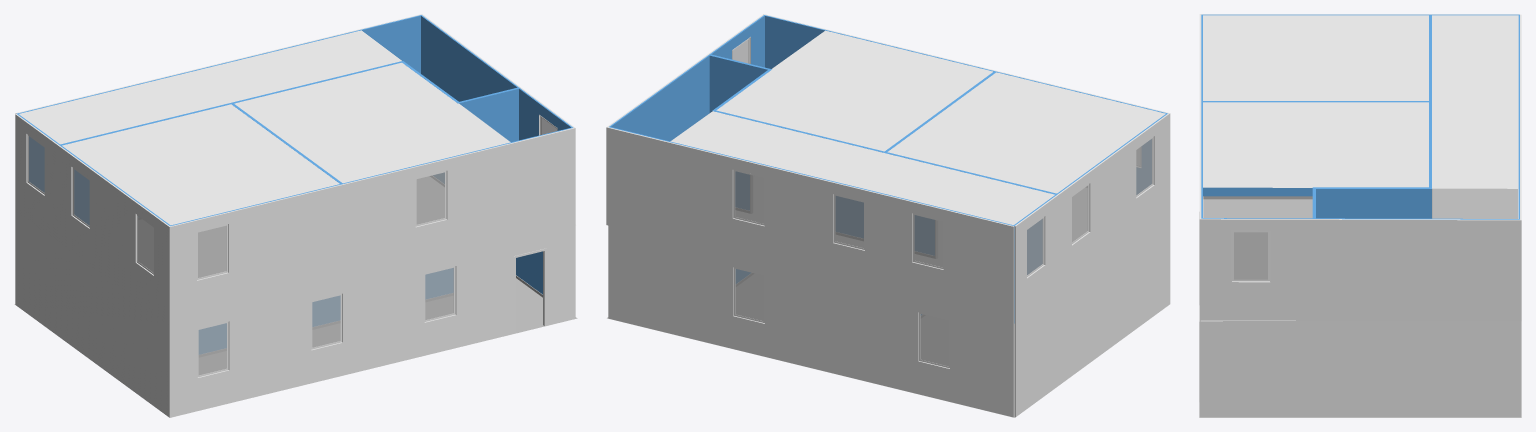
Rendered from Home.obj.
The picture shows the model from 3 angles, left to right: view 1: azimuth 30°, elevation 25°; view 2: azimuth 150°, elevation 25°; view 3: azimuth 270°, elevation 25°; orthographic projection. The views are drawn at different scales.
Visible parts, largest first — view 1: room_20_136, wall_3_19, wall_16_114, wall_15_107, wall_4_26, wall_14_100, wall_8_56, wall_13_93, room_20_135, room_19_133, wall_9_63, wall_5_35 (+14 smaller); view 2: room_20_136, wall_9_64, wall_1_5, wall_4_26, wall_14_100, wall_8_56, wall_13_93, room_19_133, room_20_135, wall_16_113, wall_10_71, wall_17_122 (+12 smaller); view 3: room_20_136, wall_2_12, wall_8_57, room_20_135, wall_11_78, sweethome3d_window_pane_203, wall_12_85, ground_1, wall_14_101, wall_12_87, wall_12_83, wall_8_58 (+5 smaller).
Boxes of the visible parts, bbox=[...] form: room_20_136: bbox=[19, 30, 510, 225]; wall_3_19: bbox=[169, 225, 575, 417]; wall_16_114: bbox=[343, 128, 575, 282]; wall_15_107: bbox=[169, 185, 342, 324]; wall_4_26: bbox=[15, 212, 169, 417]; wall_14_100: bbox=[58, 146, 169, 324]; wall_8_56: bbox=[421, 16, 570, 140]; wall_13_93: bbox=[15, 114, 58, 242]; room_20_135: bbox=[138, 176, 444, 277]; room_19_133: bbox=[199, 278, 543, 374]; wall_9_63: bbox=[29, 16, 420, 191]; wall_5_35: bbox=[199, 268, 453, 354]; room_20_136: bbox=[670, 30, 1165, 225]; wall_9_64: bbox=[606, 127, 1014, 324]; wall_1_5: bbox=[608, 225, 1014, 417]; wall_4_26: bbox=[1014, 211, 1170, 417]; wall_14_100: bbox=[1059, 113, 1170, 291]; wall_8_56: bbox=[611, 16, 764, 141]; wall_13_93: bbox=[1014, 195, 1058, 323]; room_19_133: bbox=[736, 274, 948, 365]; room_20_135: bbox=[735, 176, 1087, 266]; wall_16_113: bbox=[765, 16, 824, 68]; wall_10_71: bbox=[709, 55, 767, 112]; wall_17_122: bbox=[712, 111, 863, 237]; room_20_136: bbox=[1203, 15, 1518, 188]; wall_2_12: bbox=[1199, 320, 1521, 416]; wall_8_57: bbox=[1199, 219, 1521, 321]; room_20_135: bbox=[1203, 188, 1517, 279]; wall_11_78: bbox=[1316, 189, 1431, 218]; sweethome3d_window_pane_203: bbox=[1234, 232, 1267, 279]; wall_12_85: bbox=[1203, 187, 1312, 196]; ground_1: bbox=[1199, 212, 1521, 417]; wall_14_101: bbox=[1202, 14, 1429, 15]; wall_12_87: bbox=[1202, 101, 1429, 102]; wall_12_83: bbox=[1203, 196, 1312, 199]; wall_8_58: bbox=[1202, 218, 1519, 219].
Bounding box in the file's own units: 1147 × 512 × 757.
